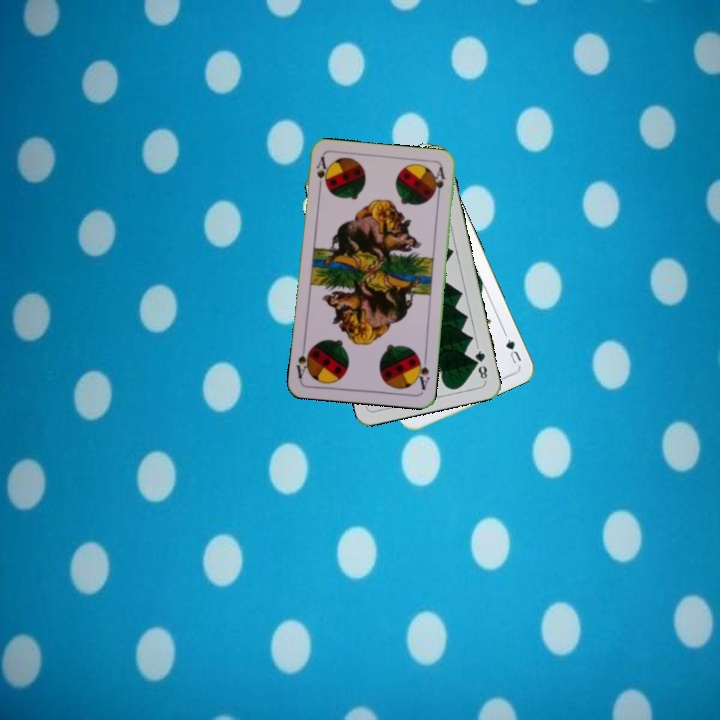G8: (470, 343, 490, 384)
GU: (500, 329, 524, 366)
SA: (412, 351, 432, 393), (312, 153, 330, 194)
